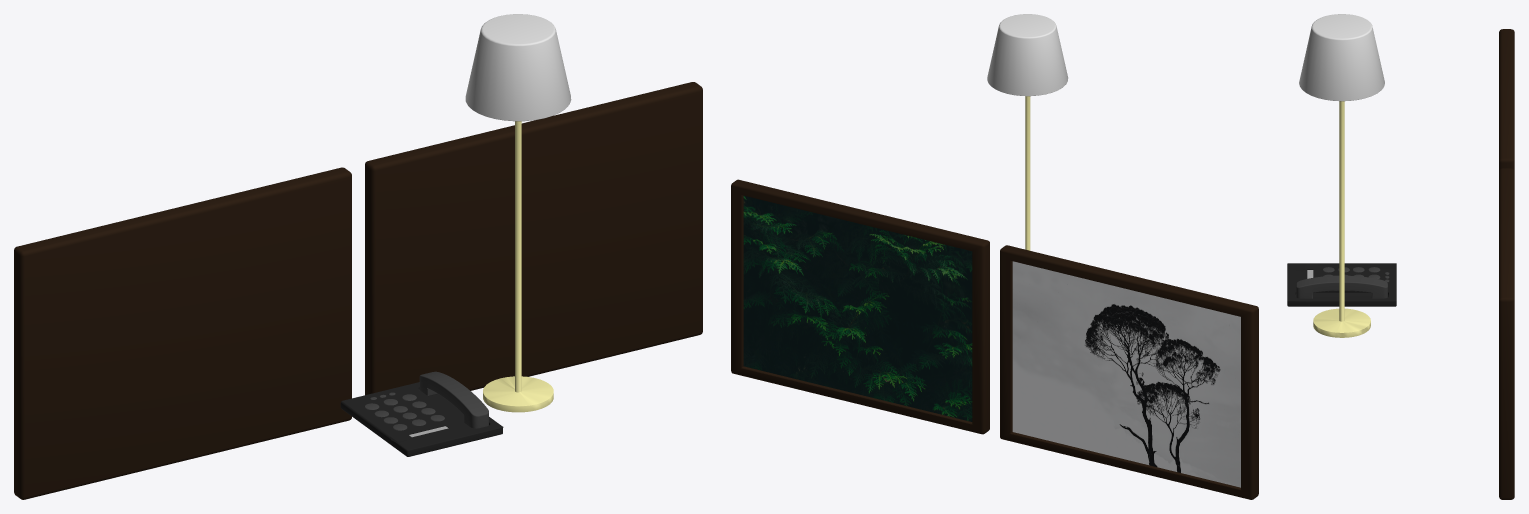
File: extraRoomFurniature.fbx
3 renders of one model, left to right at view 1: azimuth 30°, elevation 25°; view 2: azimuth 150°, elevation 25°; view 3: azimuth 270°, elevation 25°, orthographic. The views are drawn at different scales.
Visible parts, largest first — view 1: LRPainting2, LRPainting1, lamp, telephone; view 2: LRPainting1, LRPainting2, lamp; view 3: lamp, LRPainting1, telephone, LRPainting2.
Boxes of the visible parts, x1,y1,x2,y2 form: LRPainting2: (14,167,351,499); LRPainting1: (365,82,702,395); lamp: (465,14,571,412); telephone: (340,371,503,456); LRPainting1: (731,179,989,434); LRPainting2: (1000,245,1258,499); lamp: (987,14,1068,250); lamp: (1299,14,1384,337); LRPainting1: (1499,168,1514,499); telephone: (1287,263,1396,306); LRPainting2: (1499,29,1514,170).
Bounding box in the file's own units: 574 × 359 × 204.
